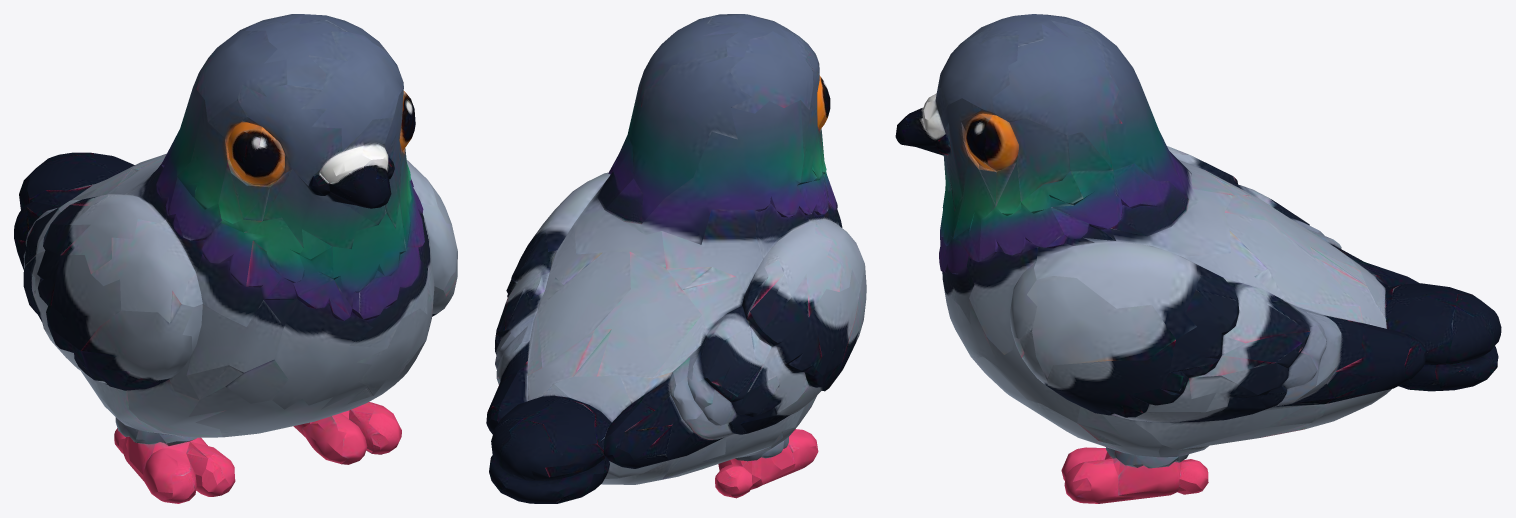
File: by-due.glb
3 renders of one model, left to right at view 1: azimuth 30°, elevation 25°; view 2: azimuth 150°, elevation 25°; view 3: azimuth 270°, elevation 25°, orthographic. The views are drawn at different scales.
Bounding box in the file's own units: 1.18 × 1.49 × 1.9.
Materials: 1 (1 with a texture image).
